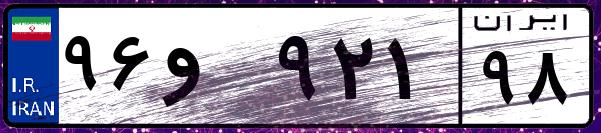1: (385, 28, 445, 110)
2: (330, 28, 385, 110)
6: (110, 28, 158, 98)
8: (525, 38, 570, 115)
9: (270, 28, 330, 110), (57, 26, 110, 100), (475, 38, 525, 113)
و: (158, 20, 270, 120)
